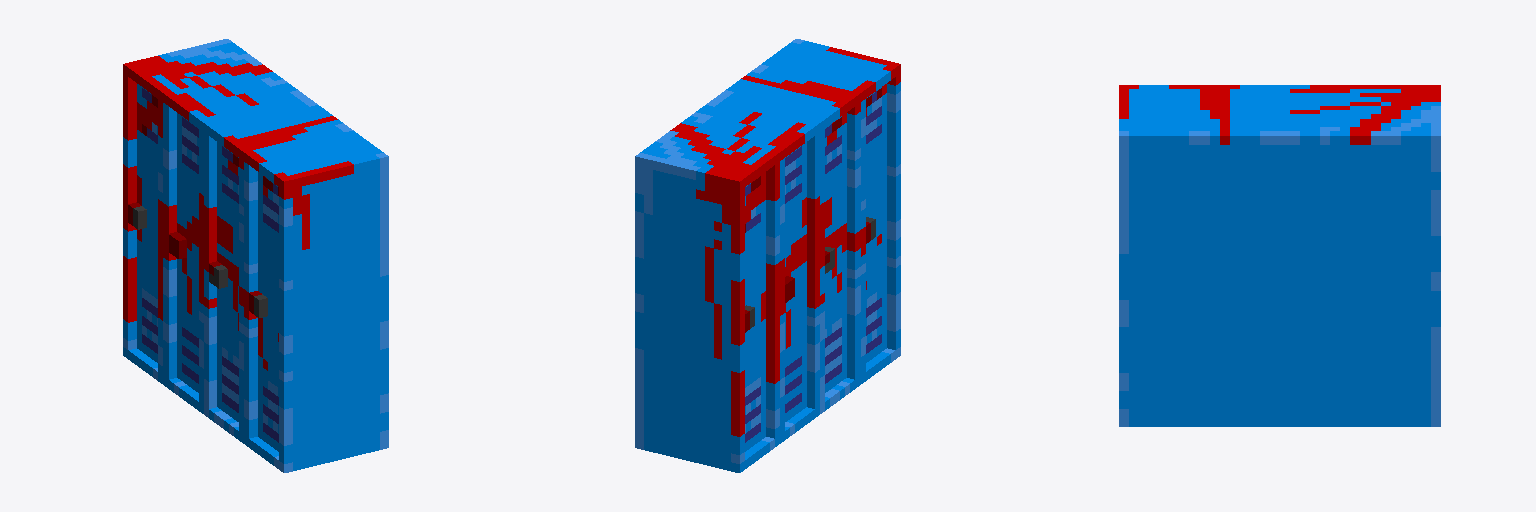
3 renders of one model, left to right at view 1: azimuth 30°, elevation 25°; view 2: azimuth 150°, elevation 25°; view 3: azimuth 270°, elevation 25°, orthographic.
Parts seen in each view (by area): view 1: locker; view 2: locker; view 3: locker.
Boxes of the visible parts, x1=… form: locker: x1=123, y1=39, x2=388, y2=472; locker: x1=635, y1=39, x2=900, y2=472; locker: x1=1119, y1=85, x2=1440, y2=426.
Bounding box in the file's own units: 12 × 32 × 32.
Materials: 1 (1 with a texture image).